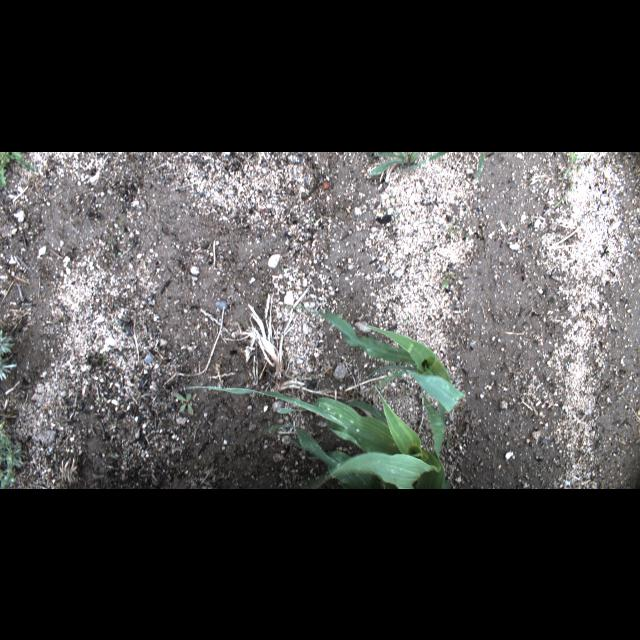crop: (180, 382, 454, 488), (282, 305, 466, 457)
weed: (371, 151, 447, 175), (1, 421, 22, 487), (0, 152, 32, 188), (1, 326, 20, 382), (560, 151, 588, 185), (556, 172, 578, 208), (172, 390, 198, 416), (432, 267, 456, 291), (434, 217, 468, 233), (419, 242, 436, 262), (474, 152, 488, 176), (272, 258, 290, 274), (116, 222, 130, 236)
